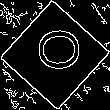O_W: (28, 32, 82, 78)
